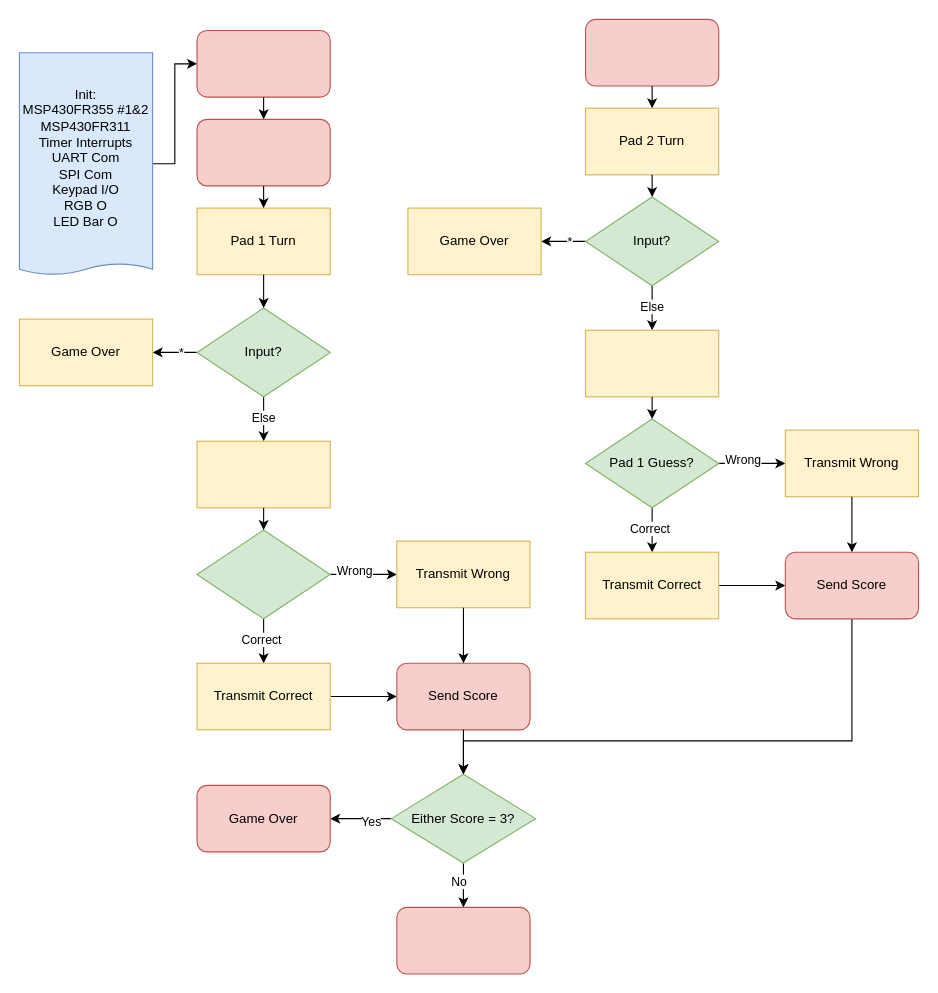
The diagram is 938 pixels wide and 993 high, and some of its shapes have lost their labels. The shapes that lost their labels are listed below. From the top down, each one's centre as x and y in pixels, then its label:
the point at 263,63: Game Start
the point at 651,52: Player 2 Turn
the point at 263,152: Player 1 Turn
the point at 651,363: Transmit to Pad 1
the point at 263,474: Transmit to Pad 2
the point at 263,574: Pad 2 Guess?
the point at 463,940: Switch Turn
